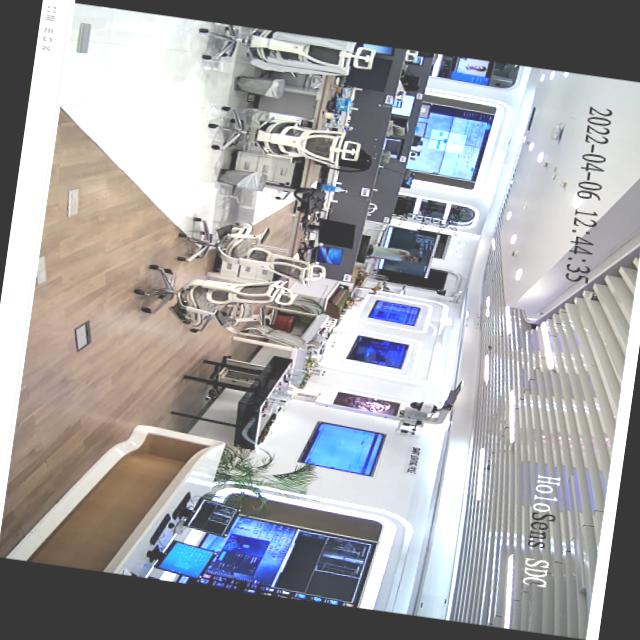long weapon: (398, 253, 417, 260)
